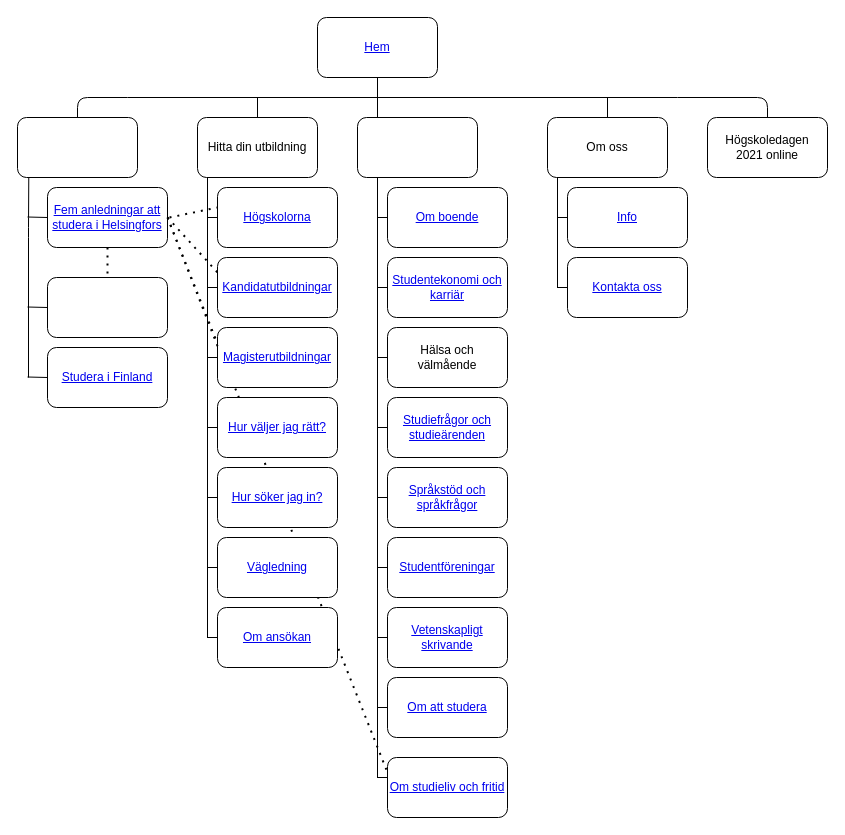
This 845x835 diagram has some shape labels left out. Here are the shapes that lost their labels. From the top down, the centre of each, then its label:
the point at 77,147: Varför just Helsingfors?
the point at 417,147: Under studietiden
the point at 107,307: Studerande i Helsingfors berättar
